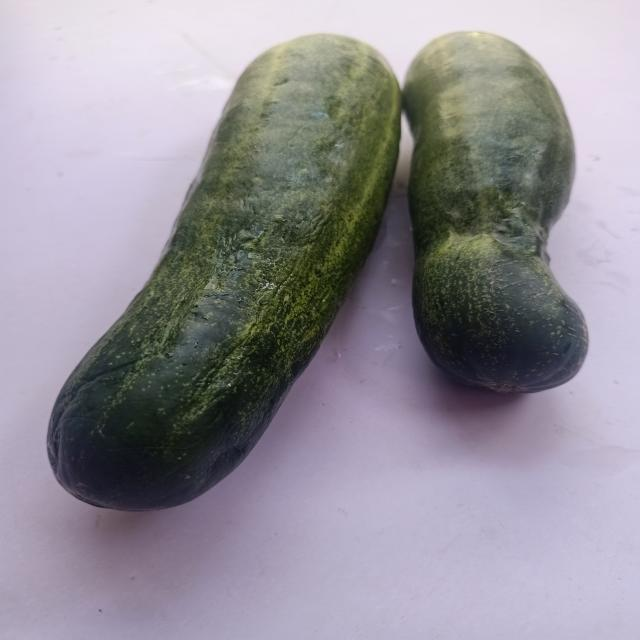Cucumber: (46, 34, 400, 511), (403, 31, 589, 393)
